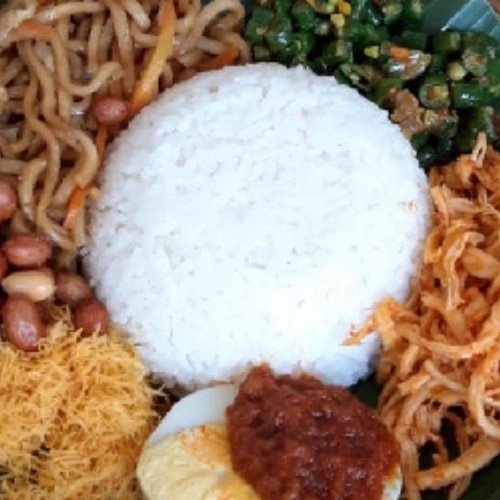nasi jinggo: (46, 2, 462, 457)
